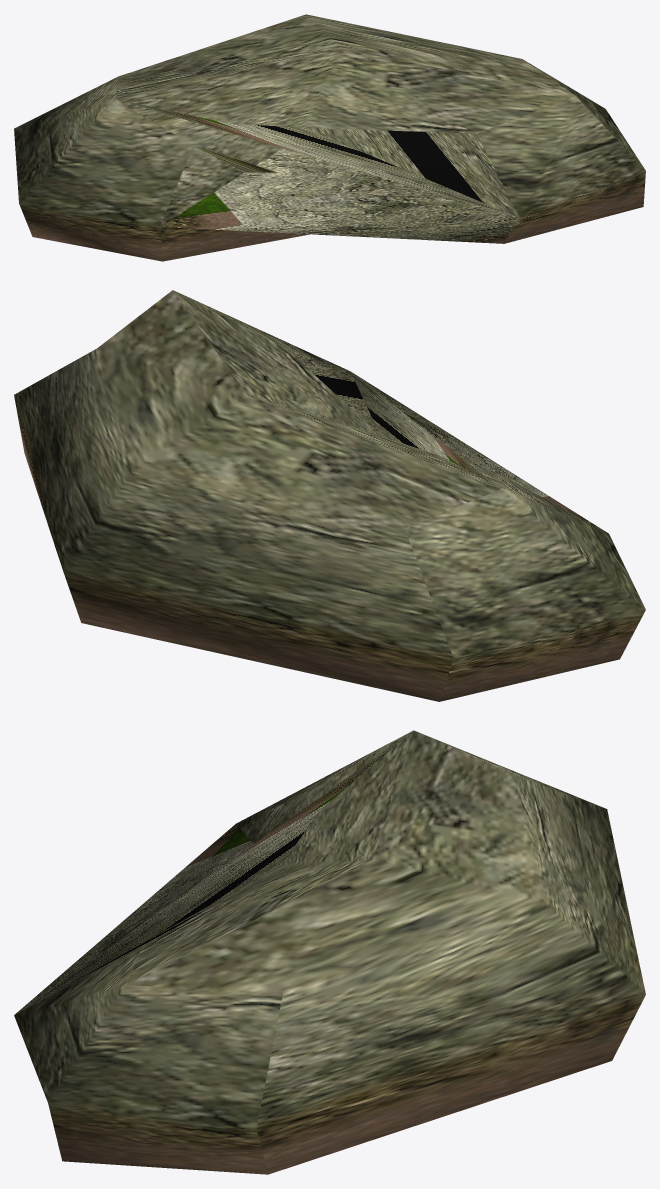
The model's file is nast25.dae.
3 renders of one model, top to bottom at view 1: azimuth 30°, elevation 25°; view 2: azimuth 150°, elevation 25°; view 3: azimuth 270°, elevation 25°, orthographic. The views are drawn at different scales.
Parts seen in each view (by area): view 1: stone00, stone02; view 2: stone00, stone02; view 3: stone00, stone02.
Part boxes in pixels (left/top/right/bottom): stone00: left=14, top=14, right=645, bottom=261; stone02: left=119, top=100, right=519, bottom=243; stone00: left=14, top=290, right=645, bottom=701; stone02: left=287, top=349, right=605, bottom=531; stone00: left=14, top=730, right=645, bottom=1174; stone02: left=15, top=731, right=412, bottom=1014.
Size of the model in its own units: 0.5225 by 0.3818 by 0.1146.
1 material, 1 textured.
